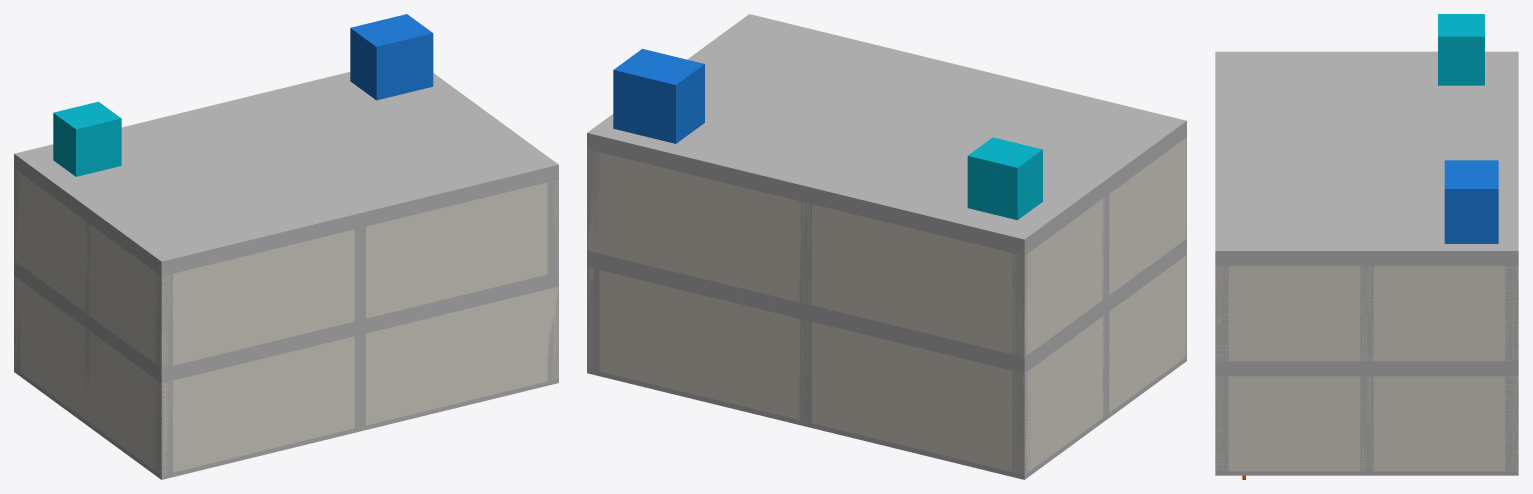
The model's file is ToaNha_BIM_MEP_14x9m.obj.
3 views of the same model, side by side, from view 1: azimuth 30°, elevation 25°; view 2: azimuth 150°, elevation 25°; view 3: azimuth 270°, elevation 25° (orthographic). The views are drawn at different scales.
Visible parts, largest first — view 1: SLAB_ROOF, WALL_FRONT_Tang_1, WALL_FRONT_Tang_2, WALL_LEFT_Tang_1, WALL_LEFT_Tang_2, BEAM_X_Tang_2_0, EQUIP_WATER_TANK_ROOF, BEAM_X_Tang_1_0, HVAC_OUTDOOR_VRV, BEAM_Y_Tang_2_0, SLAB_Tang_1, BEAM_Y_Tang_1_0 (+11 smaller); view 2: SLAB_ROOF, WALL_BACK_Tang_2, WALL_BACK_Tang_1, WALL_LEFT_Tang_2, WALL_LEFT_Tang_1, BEAM_X_Tang_2_8700, BEAM_X_Tang_1_8700, EQUIP_WATER_TANK_ROOF, HVAC_OUTDOOR_VRV, BEAM_Y_Tang_2_0, SLAB_Tang_1, BEAM_Y_Tang_1_0 (+13 smaller); view 3: SLAB_ROOF, WALL_RIGHT_Tang_2, WALL_RIGHT_Tang_1, BEAM_Y_Tang_2_13700, EQUIP_WATER_TANK_ROOF, BEAM_Y_Tang_1_13700, HVAC_OUTDOOR_VRV, BEAM_X_Tang_2_0, BEAM_X_Tang_2_8700, BEAM_X_Tang_2_4500, SLAB_Tang_1, BEAM_Y_Tang_2_7000 (+8 smaller).
Boxes of the visible parts, x1,y1,x2,y2 form: SLAB_ROOF: [14, 72, 558, 263]; WALL_FRONT_Tang_1: [158, 287, 558, 474]; WALL_FRONT_Tang_2: [159, 180, 558, 367]; WALL_LEFT_Tang_1: [14, 276, 167, 474]; WALL_LEFT_Tang_2: [14, 169, 167, 367]; BEAM_X_Tang_2_0: [156, 162, 558, 276]; EQUIP_WATER_TANK_ROOF: [350, 14, 433, 100]; BEAM_X_Tang_1_0: [156, 274, 558, 383]; HVAC_OUTDOOR_VRV: [53, 101, 121, 176]; BEAM_Y_Tang_2_0: [14, 155, 169, 276]; SLAB_Tang_1: [14, 368, 558, 479]; BEAM_Y_Tang_1_0: [14, 261, 169, 383]; SLAB_ROOF: [587, 15, 1185, 243]; WALL_BACK_Tang_2: [587, 149, 1026, 356]; WALL_BACK_Tang_1: [587, 268, 1025, 474]; WALL_LEFT_Tang_2: [1018, 138, 1186, 357]; WALL_LEFT_Tang_1: [1018, 255, 1186, 474]; BEAM_X_Tang_2_8700: [587, 129, 1029, 255]; BEAM_X_Tang_1_8700: [587, 251, 1029, 373]; EQUIP_WATER_TANK_ROOF: [613, 49, 704, 143]; HVAC_OUTDOOR_VRV: [967, 137, 1042, 220]; BEAM_Y_Tang_2_0: [1015, 120, 1185, 255]; SLAB_Tang_1: [587, 356, 1186, 479]; BEAM_Y_Tang_1_0: [1015, 242, 1181, 373]; SLAB_ROOF: [1215, 51, 1518, 255]; WALL_RIGHT_Tang_2: [1215, 266, 1518, 361]; WALL_RIGHT_Tang_1: [1215, 376, 1518, 471]; BEAM_Y_Tang_2_13700: [1215, 246, 1518, 266]; EQUIP_WATER_TANK_ROOF: [1444, 160, 1498, 243]; BEAM_Y_Tang_1_13700: [1215, 361, 1518, 376]; HVAC_OUTDOOR_VRV: [1438, 14, 1484, 85]; BEAM_X_Tang_2_0: [1215, 51, 1225, 266]; BEAM_X_Tang_2_8700: [1508, 51, 1518, 266]; BEAM_X_Tang_2_4500: [1367, 51, 1376, 266]; SLAB_Tang_1: [1215, 471, 1518, 475]; BEAM_Y_Tang_2_7000: [1215, 151, 1518, 155].
Size of the model in its own units: 14 by 9.38 by 9.
